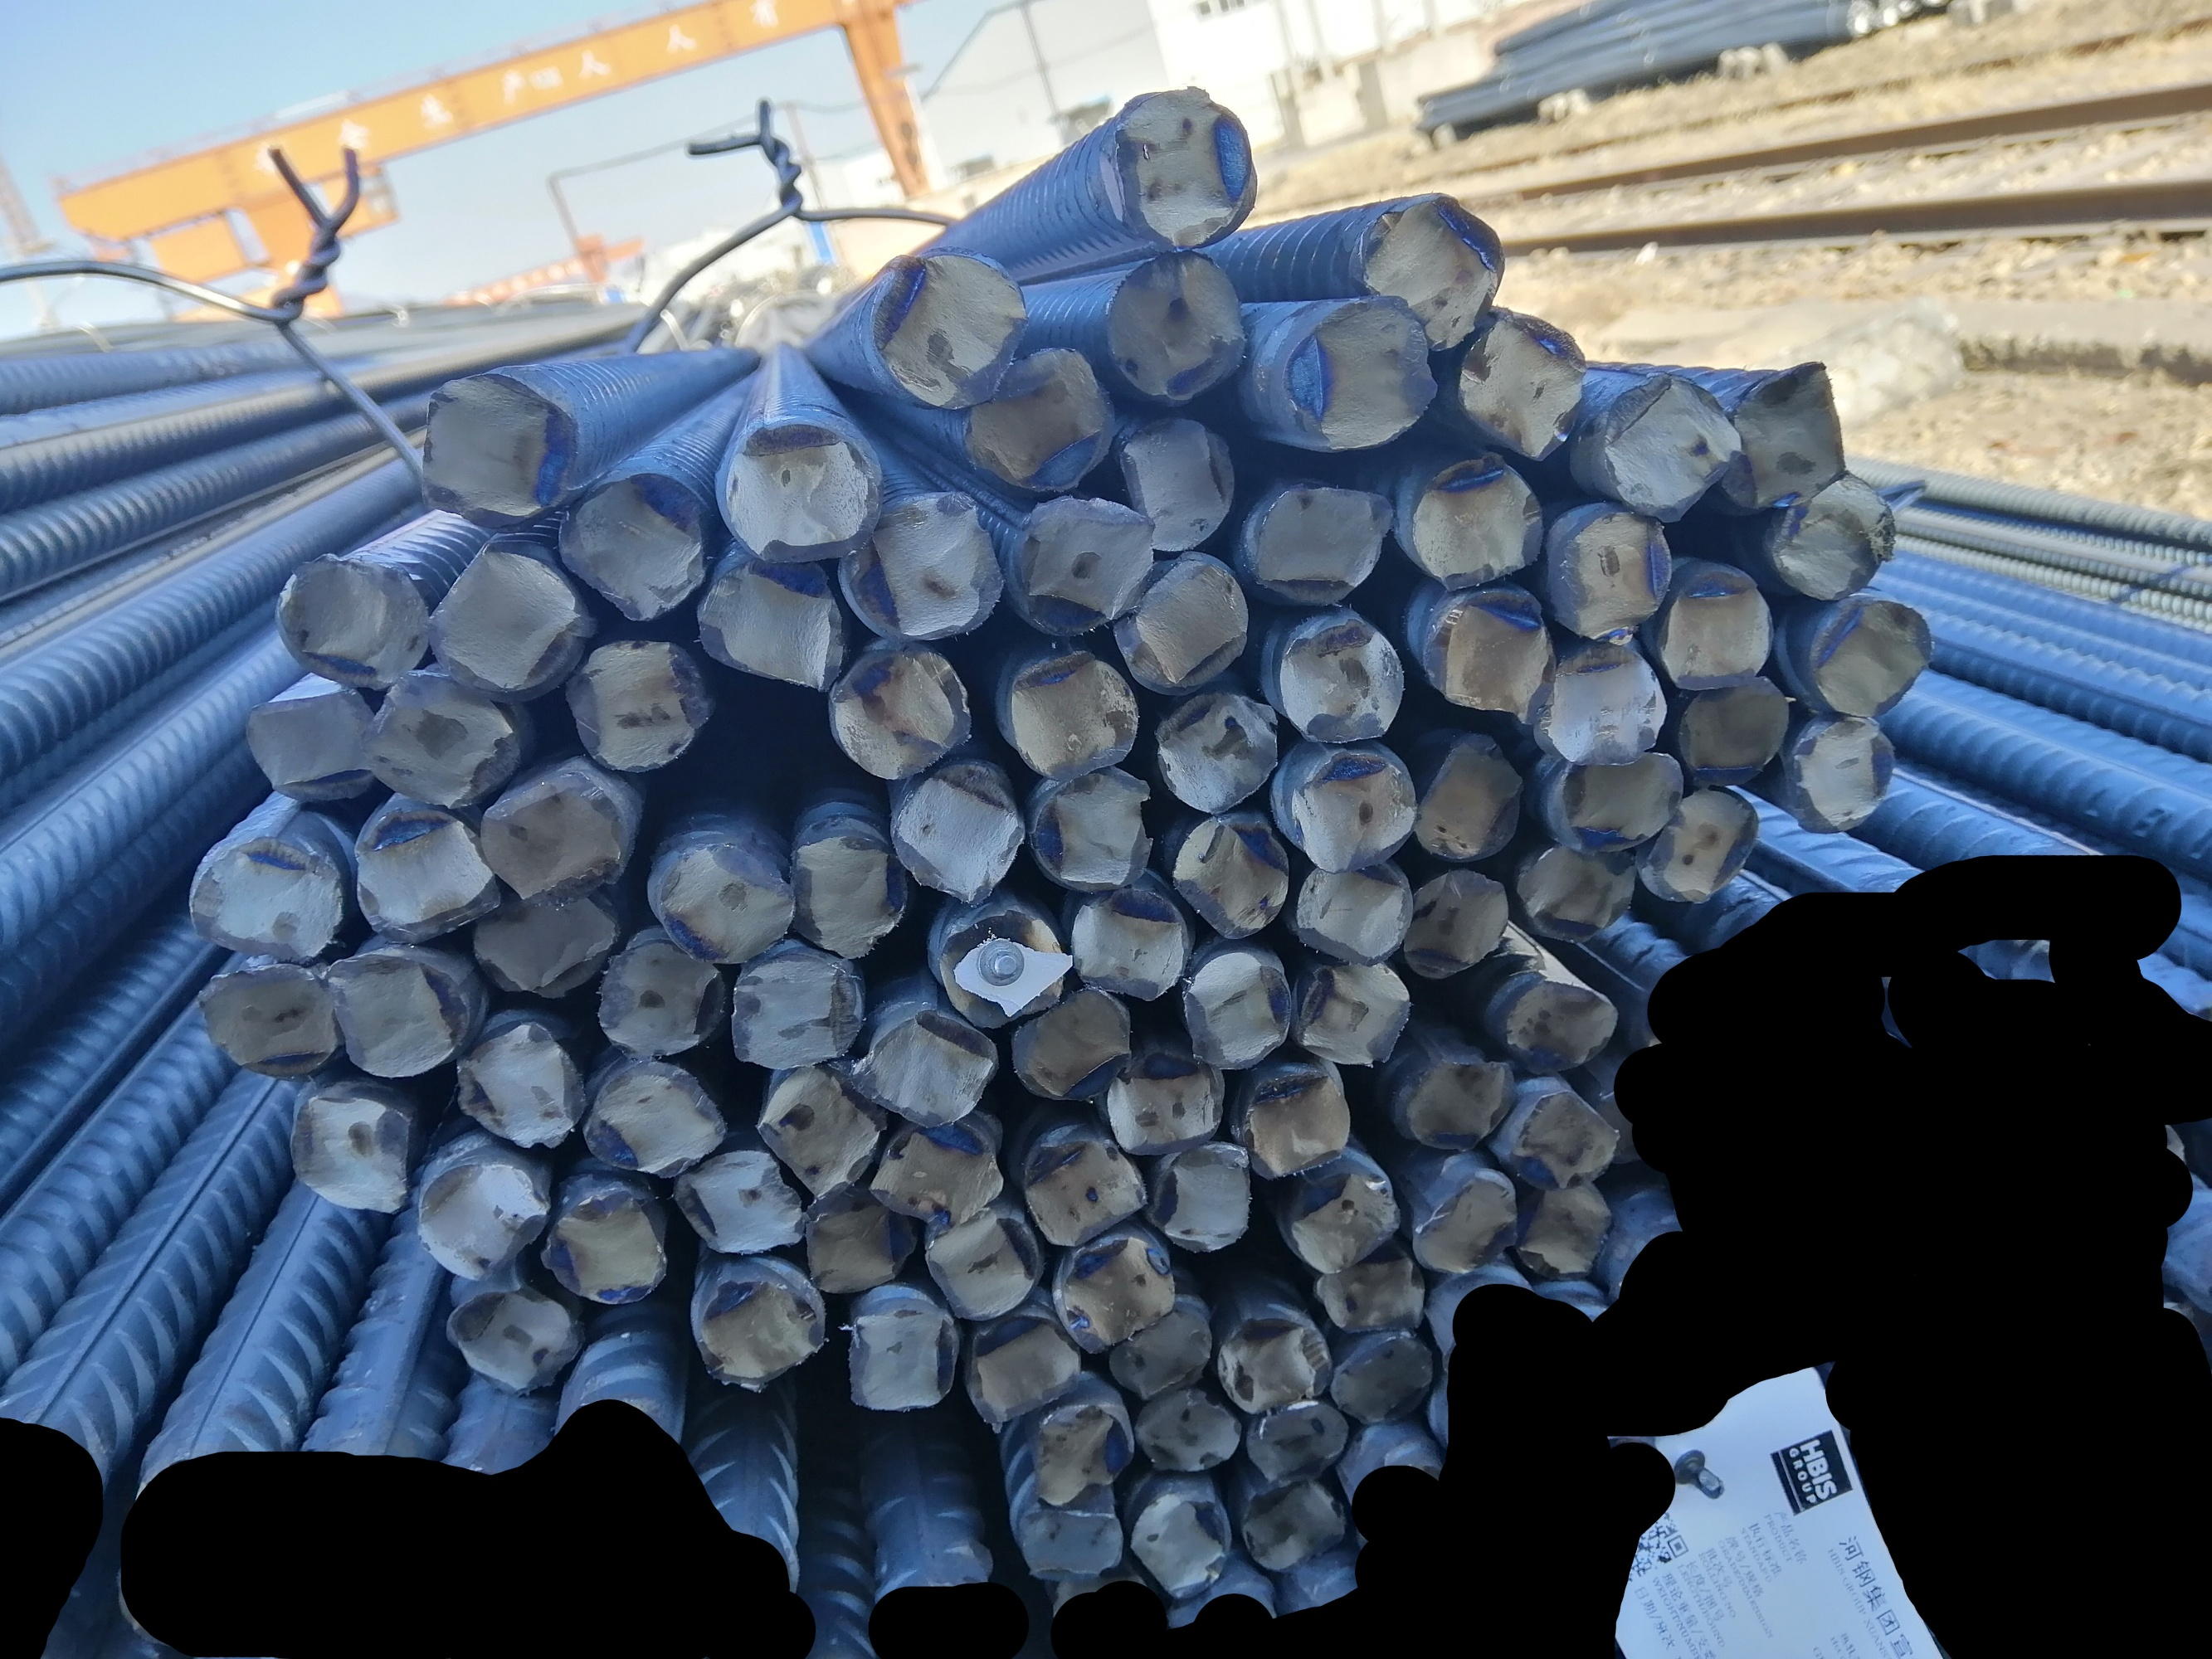rebar: (417, 364, 584, 537), (835, 486, 1002, 645), (873, 247, 1030, 415), (420, 547, 589, 699), (718, 416, 884, 570), (554, 471, 709, 629), (1103, 247, 1253, 411), (1293, 291, 1443, 455), (1112, 80, 1252, 253), (1358, 192, 1506, 350), (275, 551, 438, 695), (1450, 295, 1586, 464), (363, 664, 516, 812), (694, 554, 851, 699), (1004, 500, 1159, 641), (1607, 368, 1743, 526), (889, 760, 1030, 910), (322, 948, 478, 1082), (966, 350, 1109, 495), (357, 805, 504, 946), (828, 645, 974, 786), (476, 769, 628, 904), (1117, 545, 1252, 699), (565, 638, 711, 777), (193, 831, 345, 965), (1717, 359, 1849, 512), (1250, 481, 1396, 617), (647, 836, 798, 967), (1410, 453, 1548, 592), (1006, 650, 1143, 786), (1550, 500, 1679, 643), (415, 1152, 547, 1288), (582, 1056, 734, 1175), (854, 1004, 999, 1127), (1117, 410, 1238, 558), (457, 1023, 593, 1154), (1769, 465, 1896, 605), (1276, 615, 1408, 748), (195, 962, 340, 1080), (1286, 744, 1419, 873), (758, 1065, 882, 1202), (467, 889, 622, 999), (1156, 685, 1283, 817), (1028, 765, 1157, 894), (1546, 636, 1673, 767), (1006, 981, 1138, 1107), (729, 950, 866, 1070), (242, 681, 380, 802), (1431, 587, 1551, 725), (587, 939, 729, 1056), (1168, 810, 1293, 941), (692, 1272, 830, 1391), (668, 1145, 811, 1258), (284, 1089, 415, 1213), (1016, 1127, 1149, 1249), (933, 908, 1065, 1030), (446, 1283, 584, 1399), (791, 829, 912, 962), (1065, 882, 1192, 1006), (1815, 596, 1938, 720), (540, 1188, 669, 1307), (1063, 1229, 1180, 1358), (1644, 777, 1761, 906), (1419, 734, 1532, 864), (1178, 948, 1295, 1073), (1293, 854, 1419, 969), (1555, 746, 1687, 854), (873, 1122, 1008, 1227), (1675, 669, 1790, 791), (922, 1208, 1042, 1319), (1788, 706, 1896, 829), (1515, 840, 1642, 945), (1109, 1049, 1231, 1157), (1396, 870, 1511, 983), (1663, 573, 1773, 692), (967, 1312, 1079, 1427), (1243, 1063, 1351, 1182), (842, 1304, 957, 1410), (1501, 972, 1618, 1077), (1292, 1168, 1400, 1279), (802, 1197, 924, 1295), (1299, 958, 1407, 1068), (1412, 1171, 1527, 1274), (1157, 1140, 1257, 1256), (1515, 1087, 1621, 1195), (1400, 1061, 1522, 1154), (1130, 1486, 1225, 1603), (1215, 1323, 1333, 1413), (1105, 1307, 1220, 1399), (1034, 1399, 1131, 1507), (1328, 1333, 1438, 1427), (1518, 1171, 1612, 1279), (1243, 1478, 1347, 1574), (1309, 1248, 1426, 1331), (1245, 1398, 1347, 1488), (1138, 1392, 1241, 1474), (1025, 1502, 1123, 1582)
